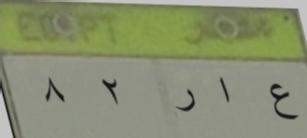2: (99, 72, 126, 113)
8: (42, 75, 69, 112)
ain: (263, 81, 303, 127)
alif: (216, 71, 235, 113)
raa: (175, 82, 197, 117)
